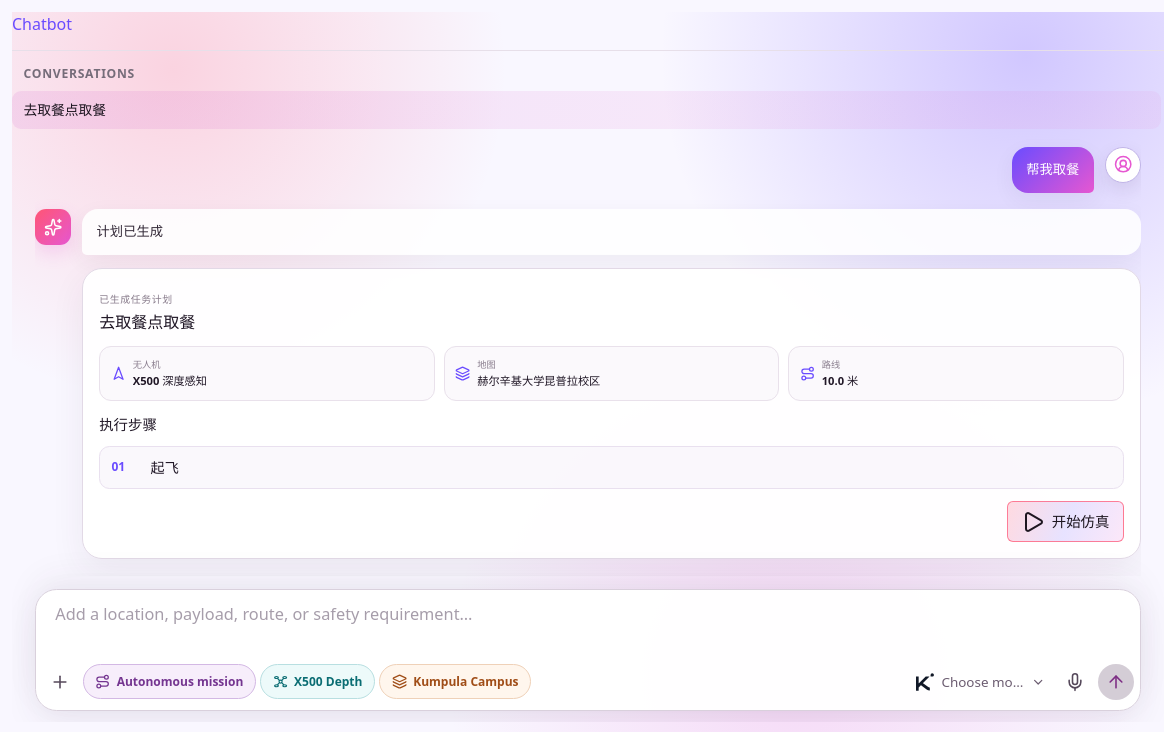
Test: Chatbot to independent conversation › terminal failed state overrides an accepted start receipt
The image size is (1164, 732).
Click the button "开始仿真". click: (1065, 522)
box: x1=1007 y1=501 x2=1124 y2=542
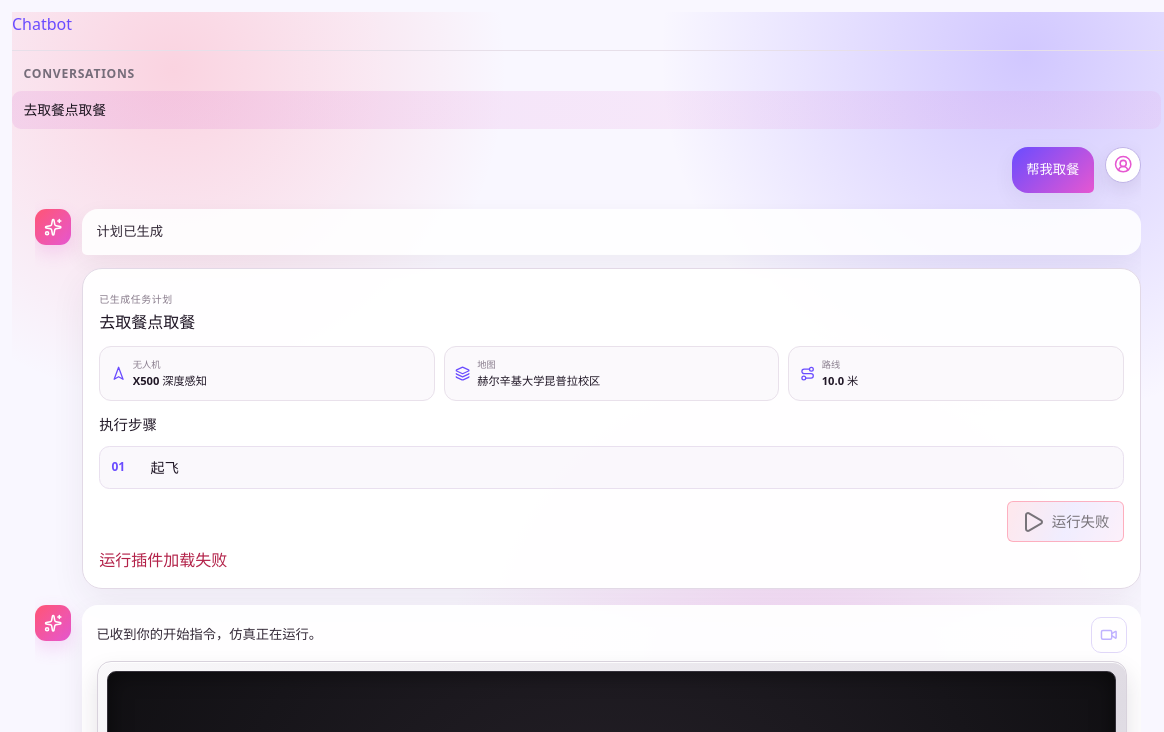
Check: the button "运行失败" is disabled, box x1=1007 y1=501 x2=1124 y2=542
Check: the message reads "运行插件加载失败", box x1=99 y1=550 x2=227 y2=572
